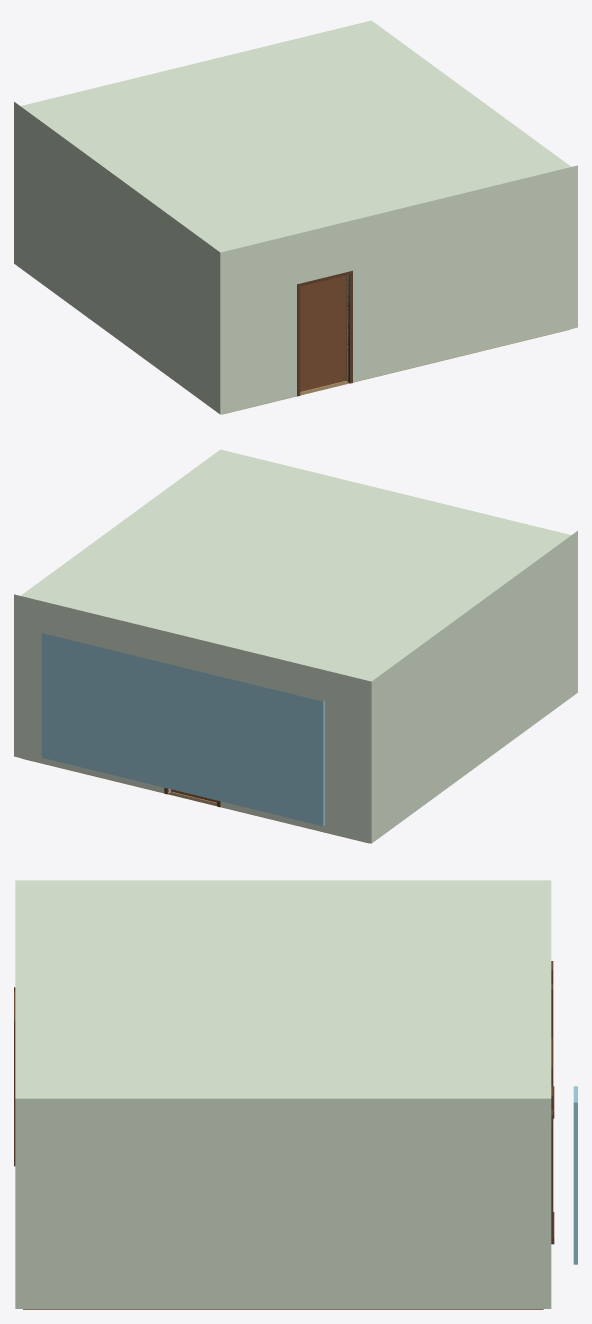
Rendered from room_bed3.glb.
3 views of the same model, one above another, from view 1: azimuth 30°, elevation 25°; view 2: azimuth 150°, elevation 25°; view 3: azimuth 270°, elevation 25° (orthographic). The views are drawn at different scales.
Visible parts, largest first — view 1: WALLS, CEILING, DOOR_bath, FRAMES; view 2: CEILING, WALLS, VIEW_window_S; view 3: CEILING, WALLS, FRAMES, VIEW_window_S.
Boxes of the visible parts, x1=… form: WALLS: x1=14, y1=108, x2=577, y2=414; CEILING: x1=14, y1=20, x2=577, y2=258; DOOR_bath: x1=300, y1=275, x2=346, y2=391; FRAMES: x1=297, y1=270, x2=352, y2=396; CEILING: x1=14, y1=449, x2=577, y2=687; WALLS: x1=14, y1=537, x2=577, y2=843; VIEW_window_S: x1=41, y1=633, x2=324, y2=826; CEILING: x1=15, y1=880, x2=551, y2=1106; WALLS: x1=15, y1=1106, x2=551, y2=1308; FRAMES: x1=14, y1=961, x2=554, y2=1244; VIEW_window_S: x1=573, y1=1086, x2=577, y2=1264.
Bounding box in the file's own units: 7.2 × 3.18 × 7.58.
